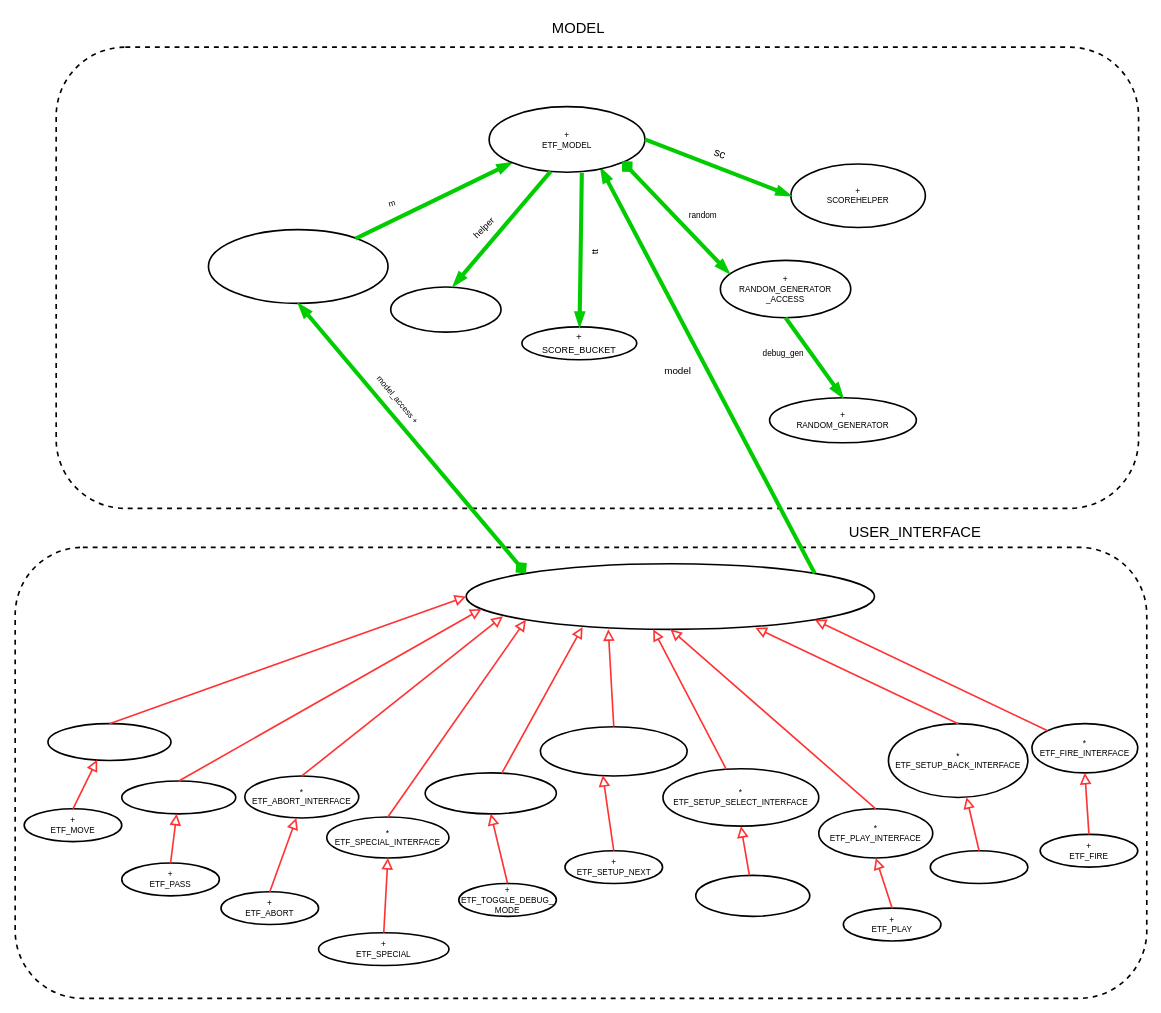
Image size: 1161x1013. Some labels were removed from this diagram. The shapes that lost their labels are listed below. From the top down, each one's centre as x and y in pixels, then its label:
point (297, 266): + ETF_MODEL_ACCESS
point (445, 309): + FEATURE_HELPER
point (670, 596): * ETF_COMMAND
point (109, 741): * ETF_MOVE_INTERFACE
point (613, 751): * ETF_SETUP_NEXT_INTERFACE
point (178, 797): * ETF_PASS_INTERFACE
point (490, 793): * ETF_TOGGLE_DEBUG_ MODE_INTERFACE
point (978, 867): + ETF_SETUP_BACK
point (752, 895): + ETF_SETUP_SELECT
